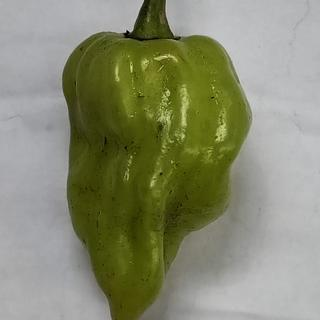Fly-bites: (156, 121, 167, 138), (135, 89, 146, 106), (155, 167, 169, 180), (121, 141, 133, 156)
